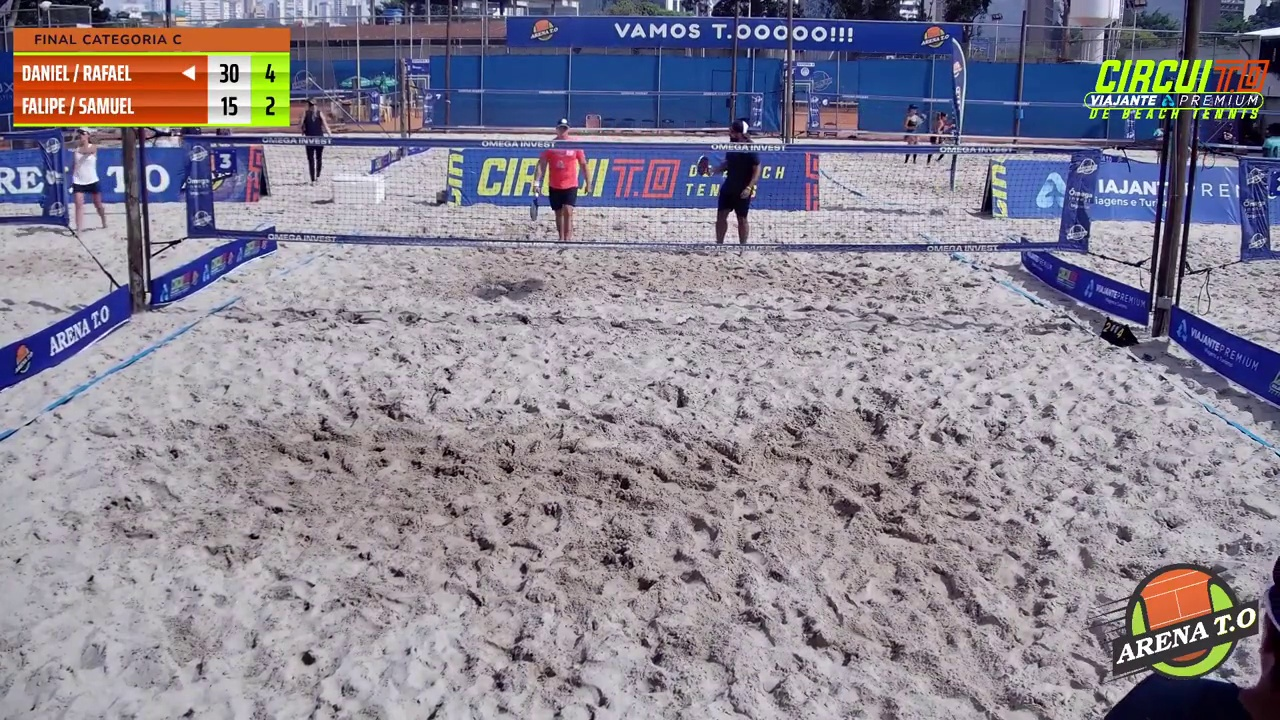court_line: (646, 0, 797, 321), (549, 0, 668, 300)
